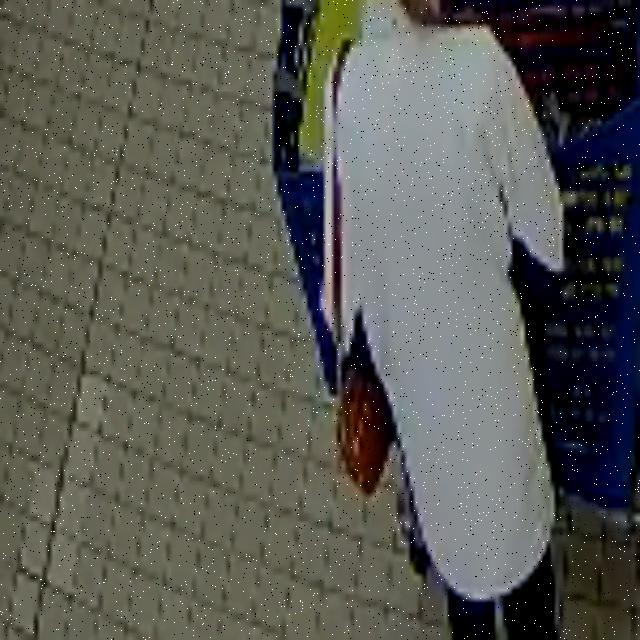bags: (326, 158, 393, 495)
person: (326, 0, 563, 639)
